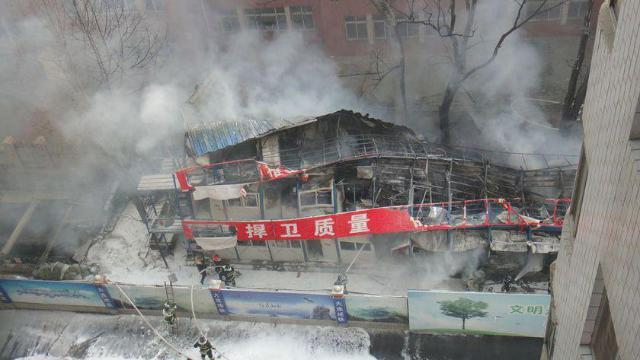smoke: (183, 39, 335, 118), (454, 0, 538, 117), (74, 88, 184, 153), (476, 120, 576, 161)
